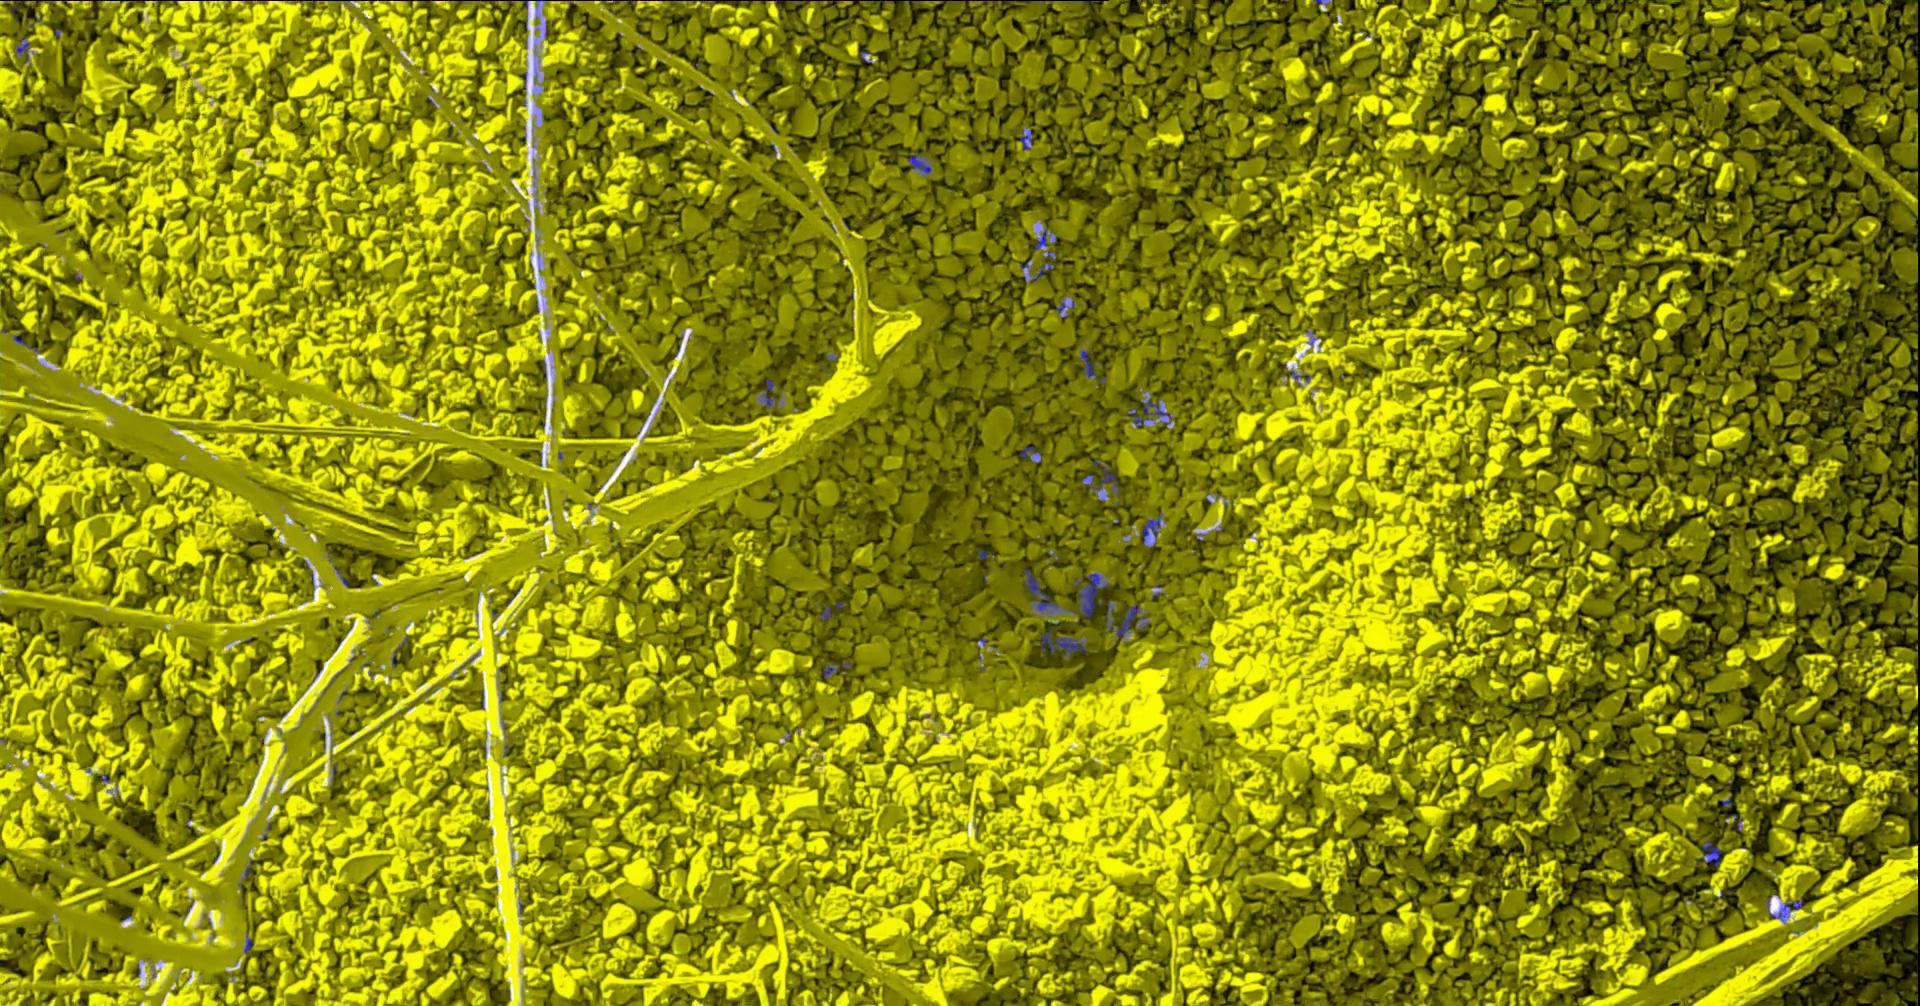ant: (1025, 567, 1060, 612), (1083, 459, 1120, 497), (1128, 398, 1177, 426), (1079, 573, 1110, 617), (1041, 630, 1090, 657), (1117, 603, 1150, 640), (1025, 250, 1059, 282), (1142, 513, 1164, 547), (1771, 898, 1804, 920), (1081, 348, 1101, 377), (1703, 841, 1723, 868), (909, 152, 933, 174), (1021, 445, 1043, 464), (1035, 225, 1050, 250), (1106, 600, 1116, 630), (820, 663, 841, 677), (1057, 296, 1069, 318), (763, 391, 781, 406), (17, 36, 30, 55), (1021, 130, 1034, 149), (820, 605, 832, 619)
